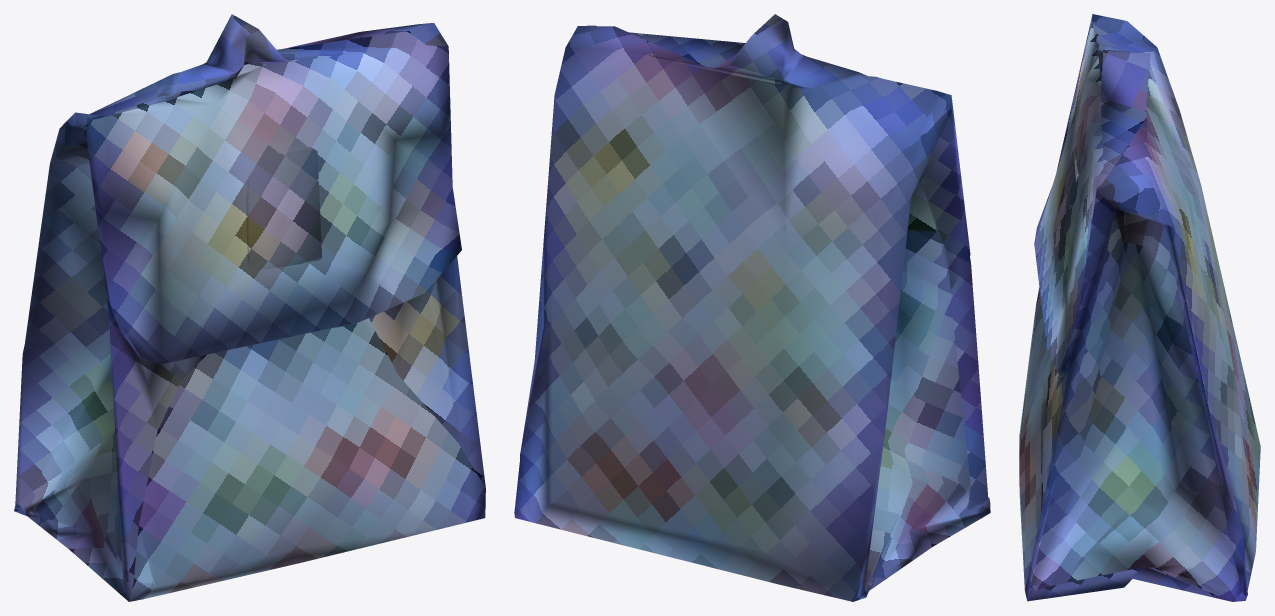
The model's file is Olive_Kids_Trains_Planes_Trucks_Munch_n_Lunch_Bag-low.glb.
3 renders of one model, left to right at view 1: azimuth 30°, elevation 25°; view 2: azimuth 150°, elevation 25°; view 3: azimuth 270°, elevation 25°, orthographic. The views are drawn at different scales.
Parts seen in each view (by area): view 1: Olive_Kids_Trains_Planes_Trucks_Munch_n_Lunch_Bag; view 2: Olive_Kids_Trains_Planes_Trucks_Munch_n_Lunch_Bag; view 3: Olive_Kids_Trains_Planes_Trucks_Munch_n_Lunch_Bag.
Part boxes in pixels (<box>): Olive_Kids_Trains_Planes_Trucks_Munch_n_Lunch_Bag: <box>14,14,485,601</box>; Olive_Kids_Trains_Planes_Trucks_Munch_n_Lunch_Bag: <box>514,14,990,601</box>; Olive_Kids_Trains_Planes_Trucks_Munch_n_Lunch_Bag: <box>1019,14,1260,601</box>.
Size of the model in its own units: 0.2158 by 0.2871 by 0.1337.
Materials: 1 (1 with a texture image).
